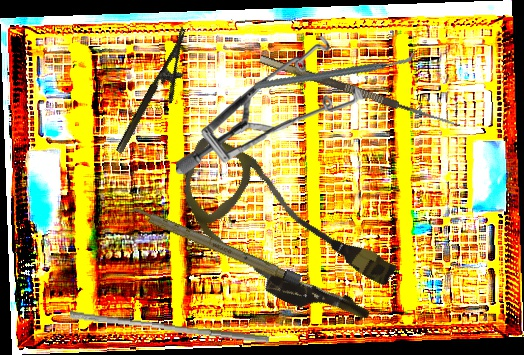Cannula: (151, 130, 411, 341)
Chopper: (253, 14, 416, 126)
Hook Surgical: (258, 43, 466, 132)
Needle Holder: (113, 26, 207, 164)
Pusher: (68, 310, 271, 344)
Scalpel Handle: (127, 203, 303, 287)
Speculum: (175, 33, 365, 178)
